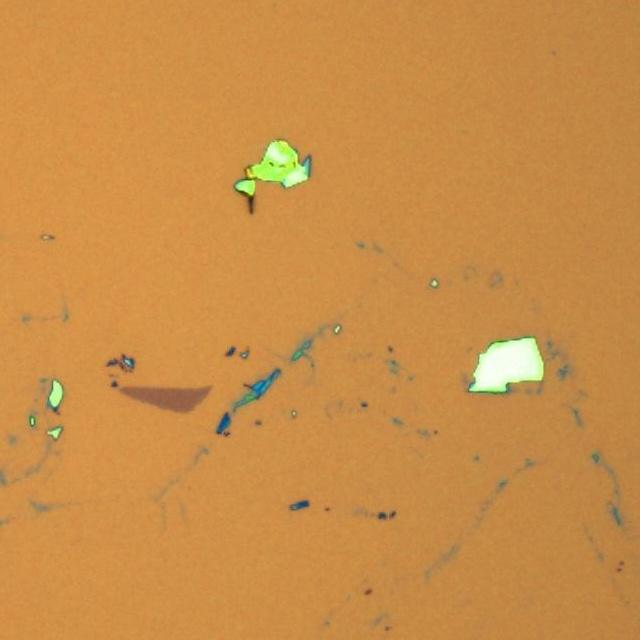monolayer-eWW4: (118, 385, 216, 417)
